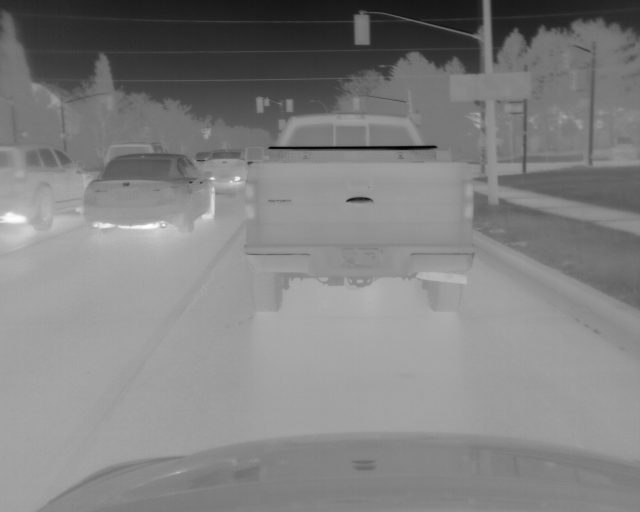car: (246, 110, 475, 314), (85, 151, 218, 234), (1, 143, 100, 232), (195, 148, 251, 197), (101, 140, 166, 167)
